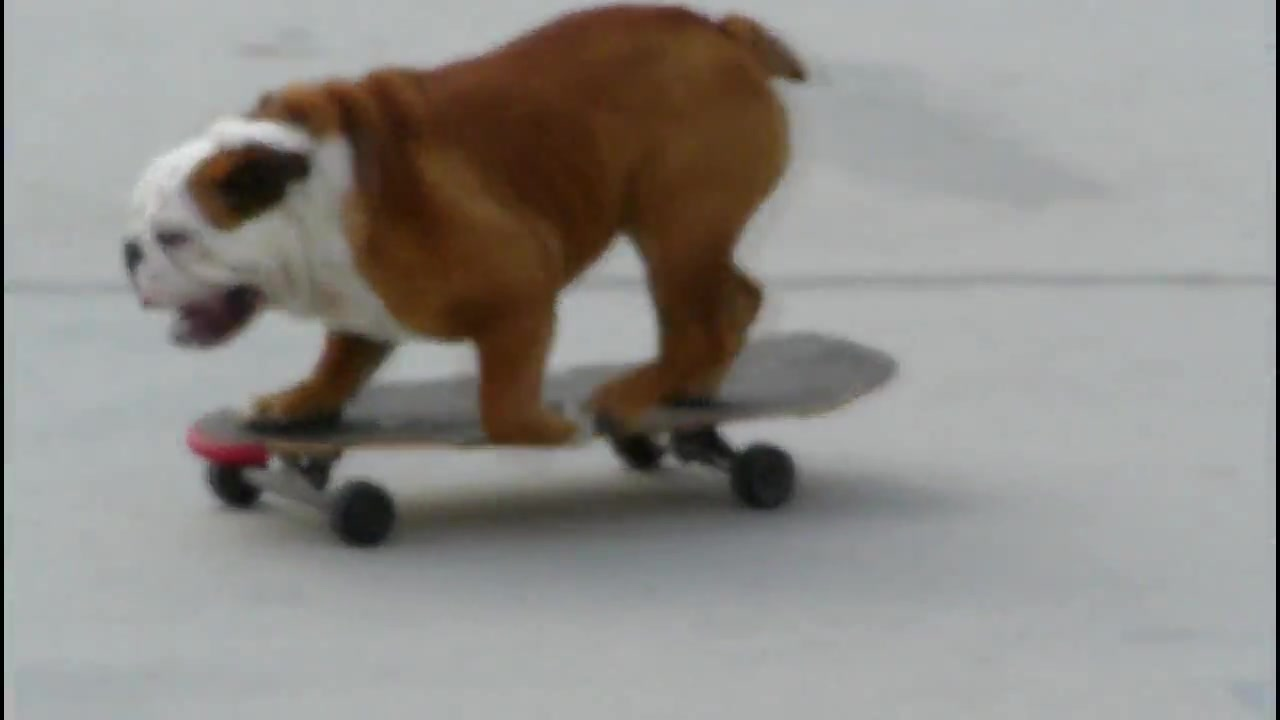dog: (121, 2, 817, 449)
